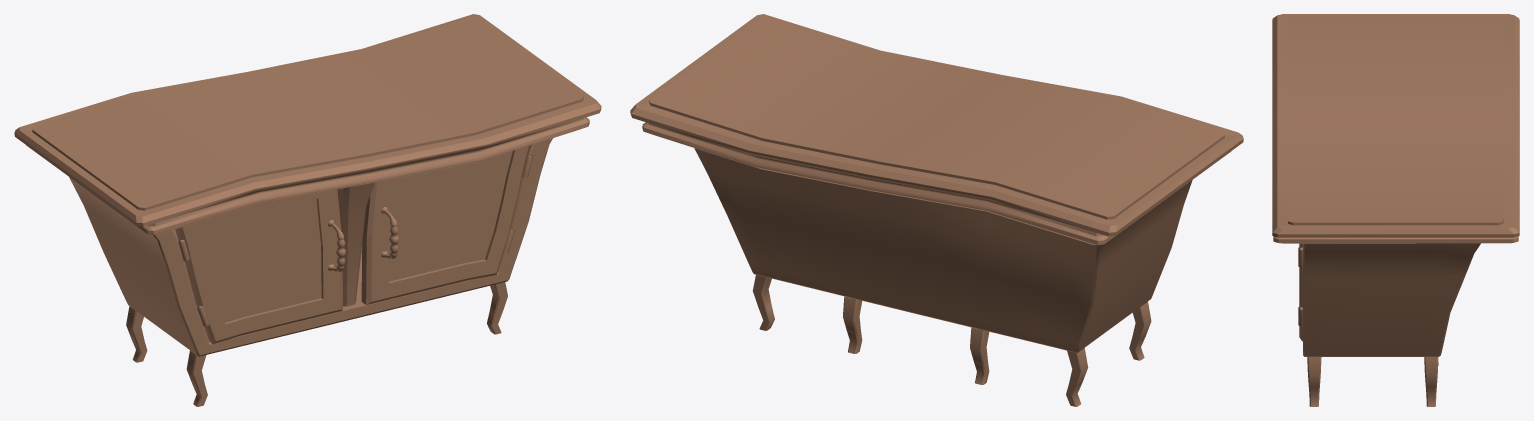
File: SM_Commode_01_Finale.fbx
The picture shows the model from 3 angles, left to right: view 1: azimuth 30°, elevation 25°; view 2: azimuth 150°, elevation 25°; view 3: azimuth 270°, elevation 25°; orthographic projection. The views are drawn at different scales.
Parts seen in each view (by area): view 1: SM_Commode_01_Final_UV2_polySurface518, SM_Porte_01_Commode_01_Final_UV2_polySurface531, SM_Porte_02_Commode_01_Final_UV2_polySurface531; view 2: SM_Commode_01_Final_UV2_polySurface518; view 3: SM_Commode_01_Final_UV2_polySurface518, SM_Porte_02_Commode_01_Final_UV2_polySurface531.
Boxes of the visible parts, bbox=[...] form: SM_Commode_01_Final_UV2_polySurface518: bbox=[14, 14, 601, 406]; SM_Porte_01_Commode_01_Final_UV2_polySurface531: bbox=[175, 189, 345, 343]; SM_Porte_02_Commode_01_Final_UV2_polySurface531: bbox=[361, 145, 529, 304]; SM_Commode_01_Final_UV2_polySurface518: bbox=[630, 14, 1243, 406]; SM_Commode_01_Final_UV2_polySurface518: bbox=[1272, 14, 1519, 406]; SM_Porte_02_Commode_01_Final_UV2_polySurface531: bbox=[1299, 243, 1302, 341].
Size of the model in its own units: 2.36 by 1.11 by 1.12.
